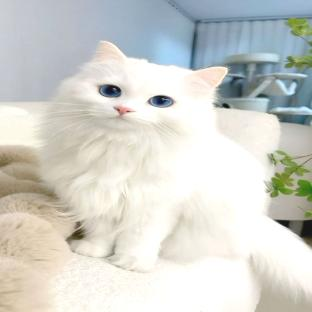Animal: (39, 41, 312, 300)
